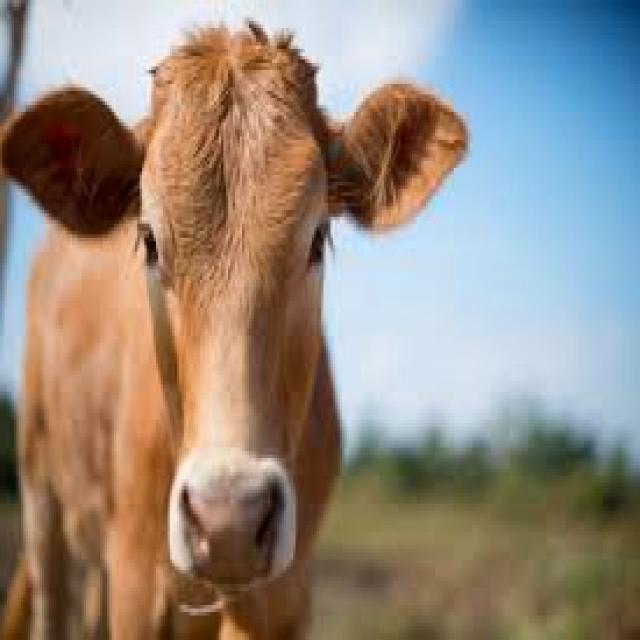cow: (2, 21, 468, 637)
